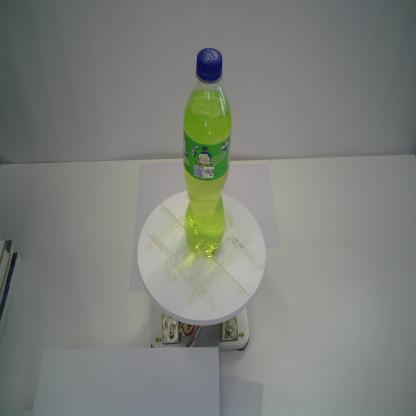Drink: (182, 46, 233, 259)
